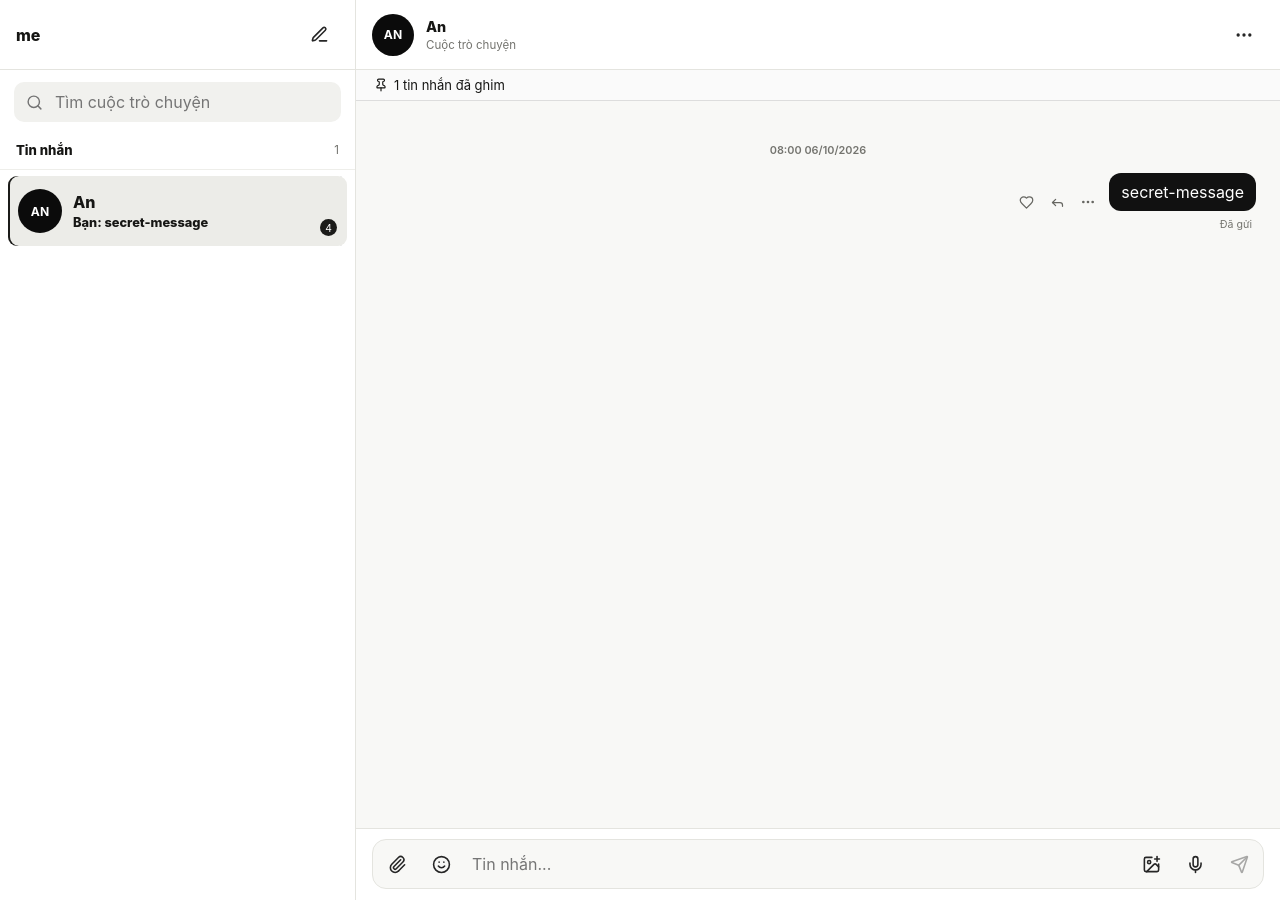
Test case: full message action parity › shows failed unpin feedback even when the pinned message is outside history
This screenshot has width=1280, height=900.
Click the button "1 tin nhắn đã ghim" at (439, 85), box [368,76,511,94]
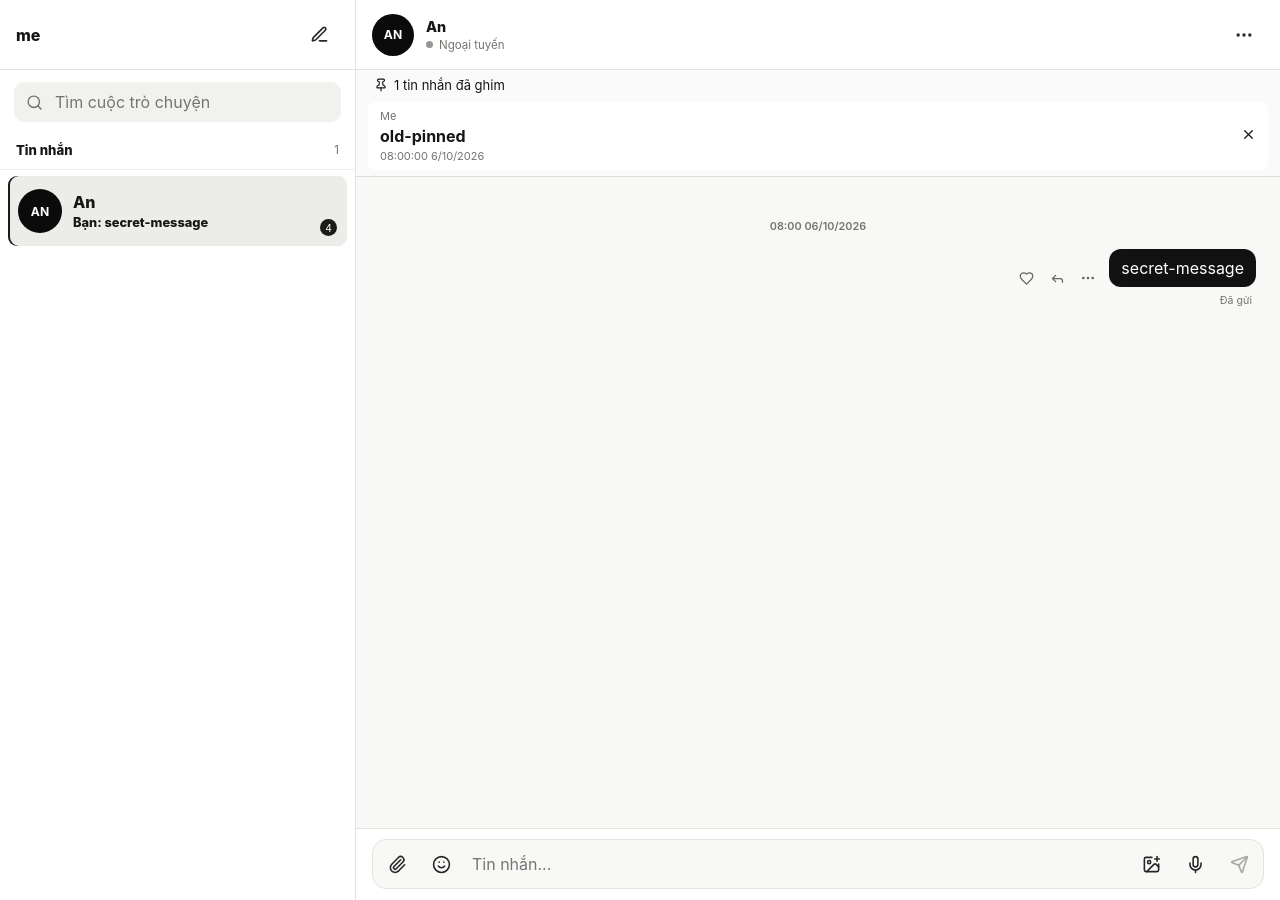
Click the button named "Bỏ ghim old-pinned" at (1248, 136), box [1235,108,1262,164]
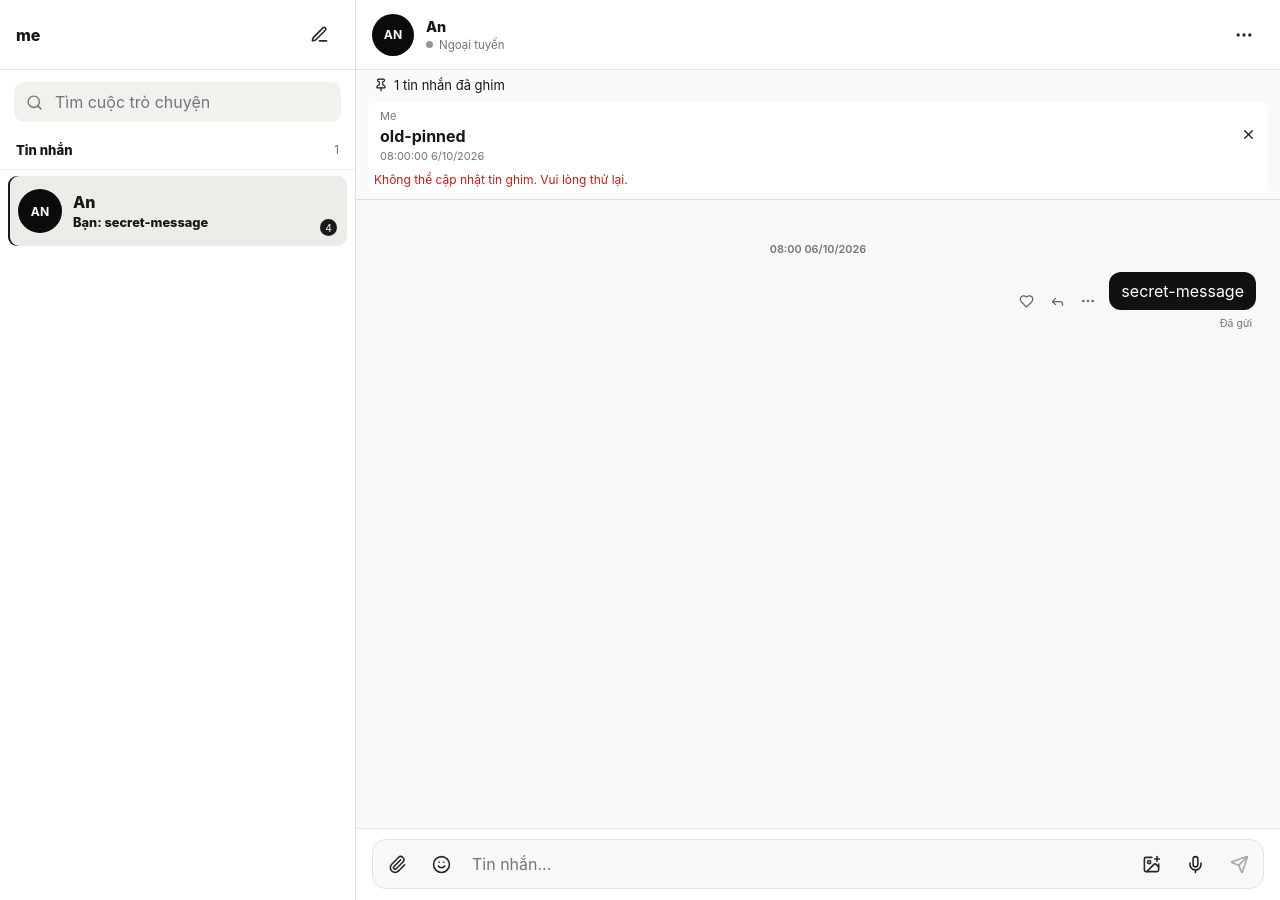
Check: the message shows "Không thể cập nhật tin ghim", box [374,172,628,187]
Click the button named "Bỏ ghim old-pinned" at (1248, 136), box [1235,108,1262,164]
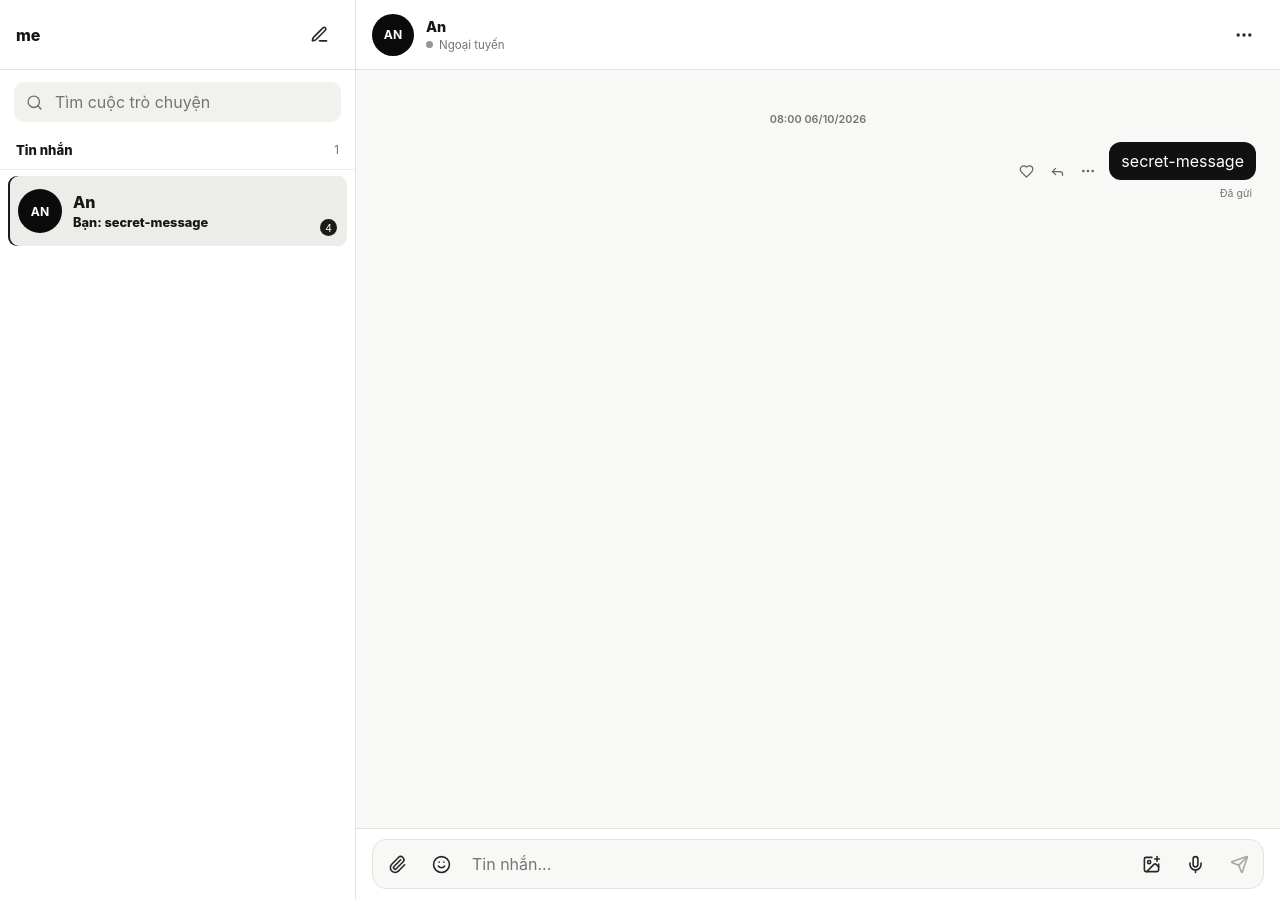
Check: the button "1 tin nhắn đã ghim" is gone
